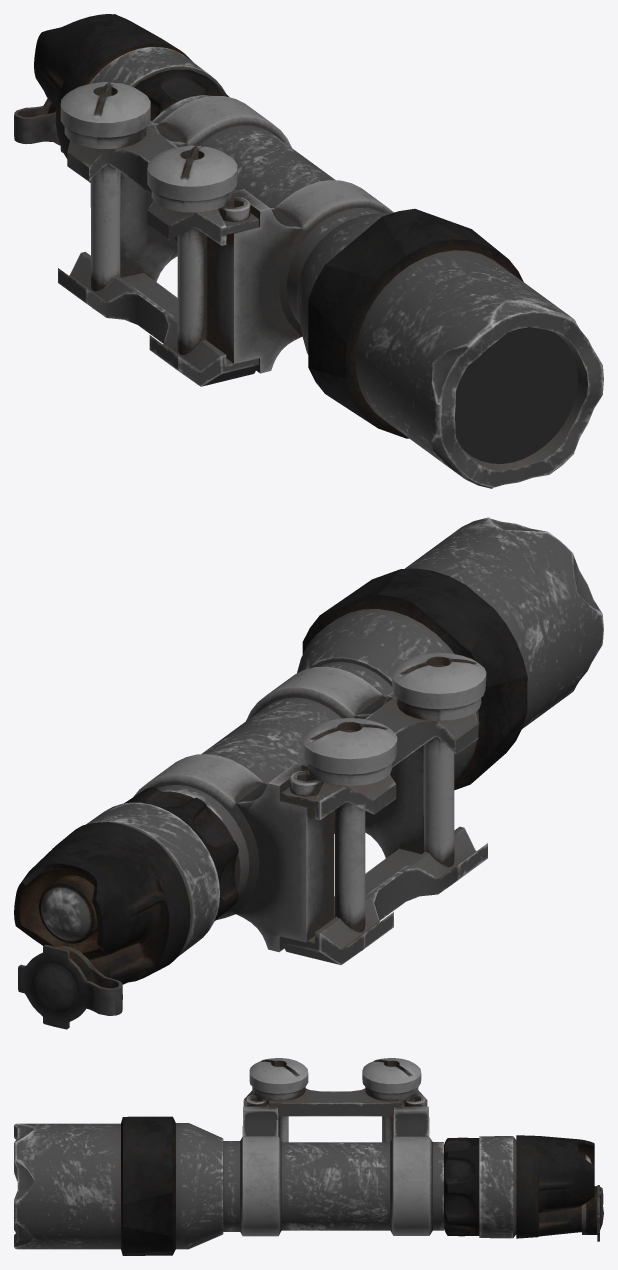
File: Flashlight_A.glb
3 views of the same model, one above another, from view 1: azimuth 30°, elevation 25°; view 2: azimuth 150°, elevation 25°; view 3: azimuth 270°, elevation 25° (orthographic). The views are drawn at different scales.
Parts seen in each view (by area): view 1: Gun_Light_A, Gun_Light_Glass_A; view 2: Gun_Light_A; view 3: Gun_Light_A.
Part boxes in pixels (box(x1,y1,x2,y2)): Gun_Light_A: box(14, 14, 603, 488); Gun_Light_Glass_A: box(455, 327, 577, 463); Gun_Light_A: box(14, 517, 603, 1029); Gun_Light_A: box(14, 1058, 603, 1255).
Bounding box in the file's own units: 0.0399 × 0.0339 × 0.1223.
2 materials, 2 textured.
